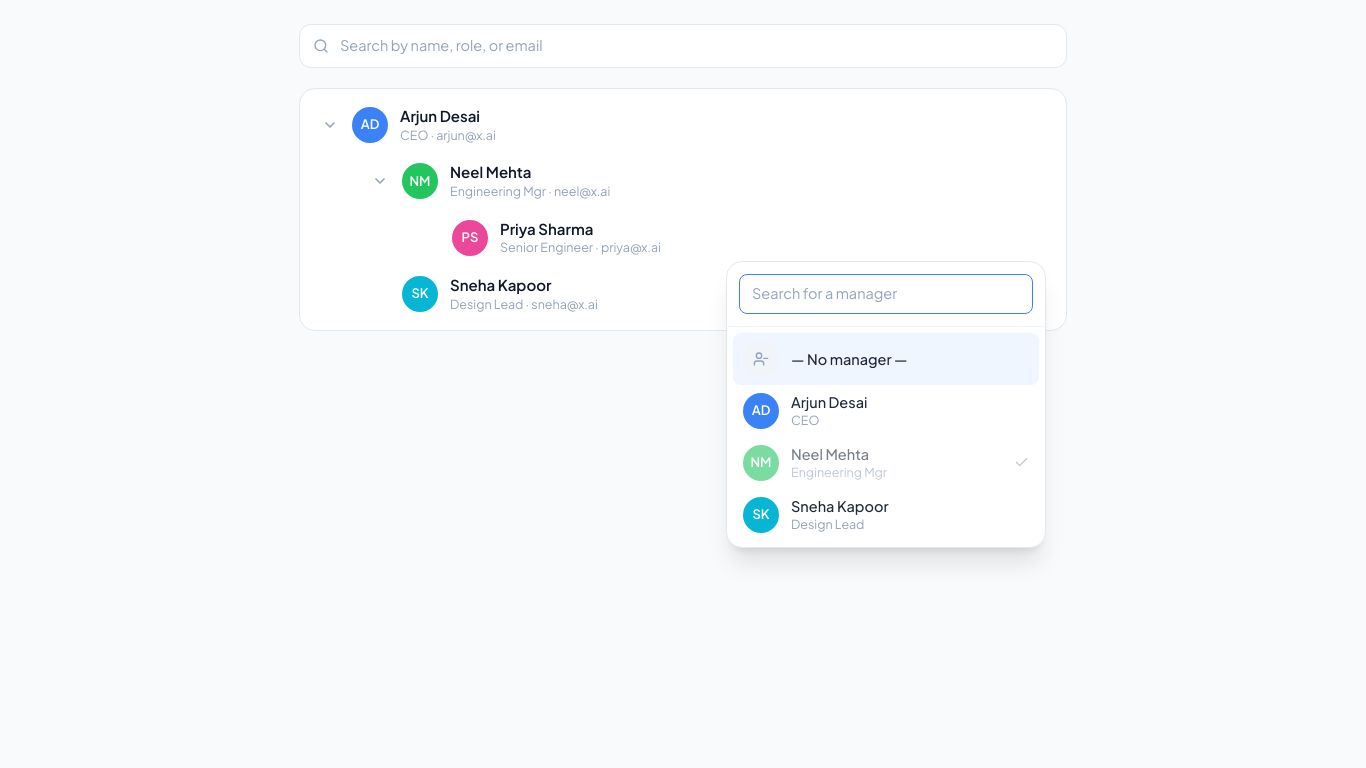
Scenario: HierarchyTree reassignment › closes the picker after a successful save
Earlier steps of the test are not shown.
Click the option "SK Sneha Kapoor Design Lead": [816, 515] box [743,497,888,533]
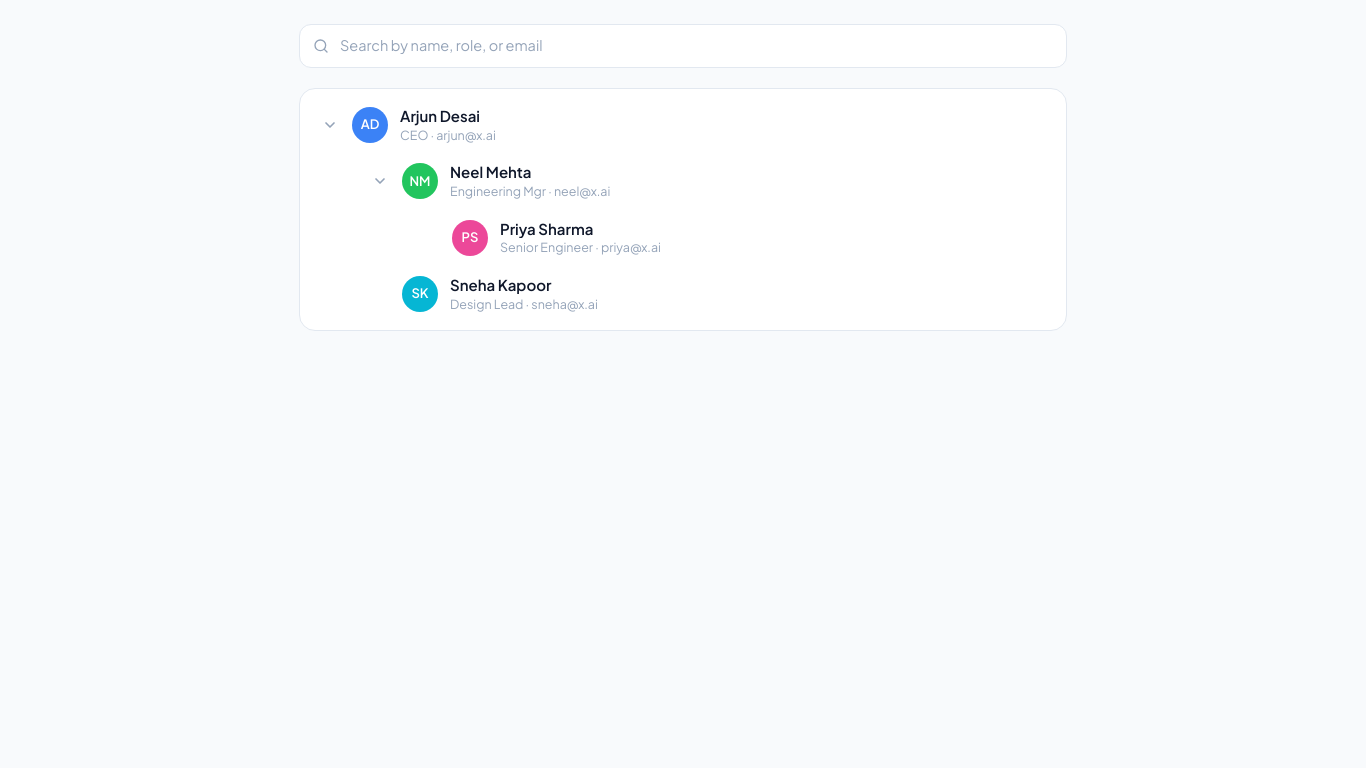
Now the dialog is gone
